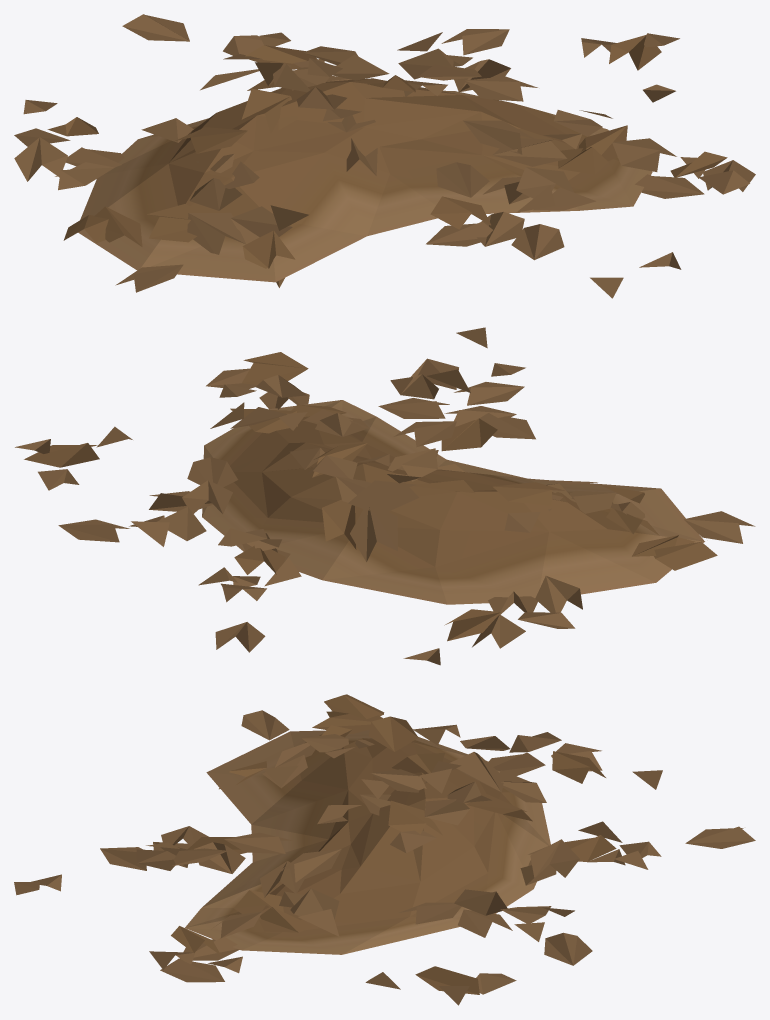
Rendered from SM_Env_Leaves_Pile_01.glb.
3 renders of one model, top to bottom at view 1: azimuth 30°, elevation 25°; view 2: azimuth 150°, elevation 25°; view 3: azimuth 270°, elevation 25°, orthographic. The views are drawn at different scales.
Visible parts, largest first — view 1: SM_Env_Leaves_Pile_01; view 2: SM_Env_Leaves_Pile_01; view 3: SM_Env_Leaves_Pile_01.
Boxes of the visible parts, x1,y1,x2,y2 form: SM_Env_Leaves_Pile_01: (14, 14, 755, 298); SM_Env_Leaves_Pile_01: (15, 327, 755, 665); SM_Env_Leaves_Pile_01: (14, 694, 755, 1005).
Size of the model in its own units: 281 by 39.39 by 290.
1 material, 1 textured.
